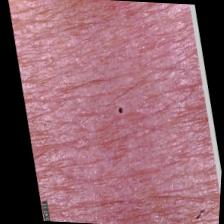Normal: (11, 0, 219, 224)
